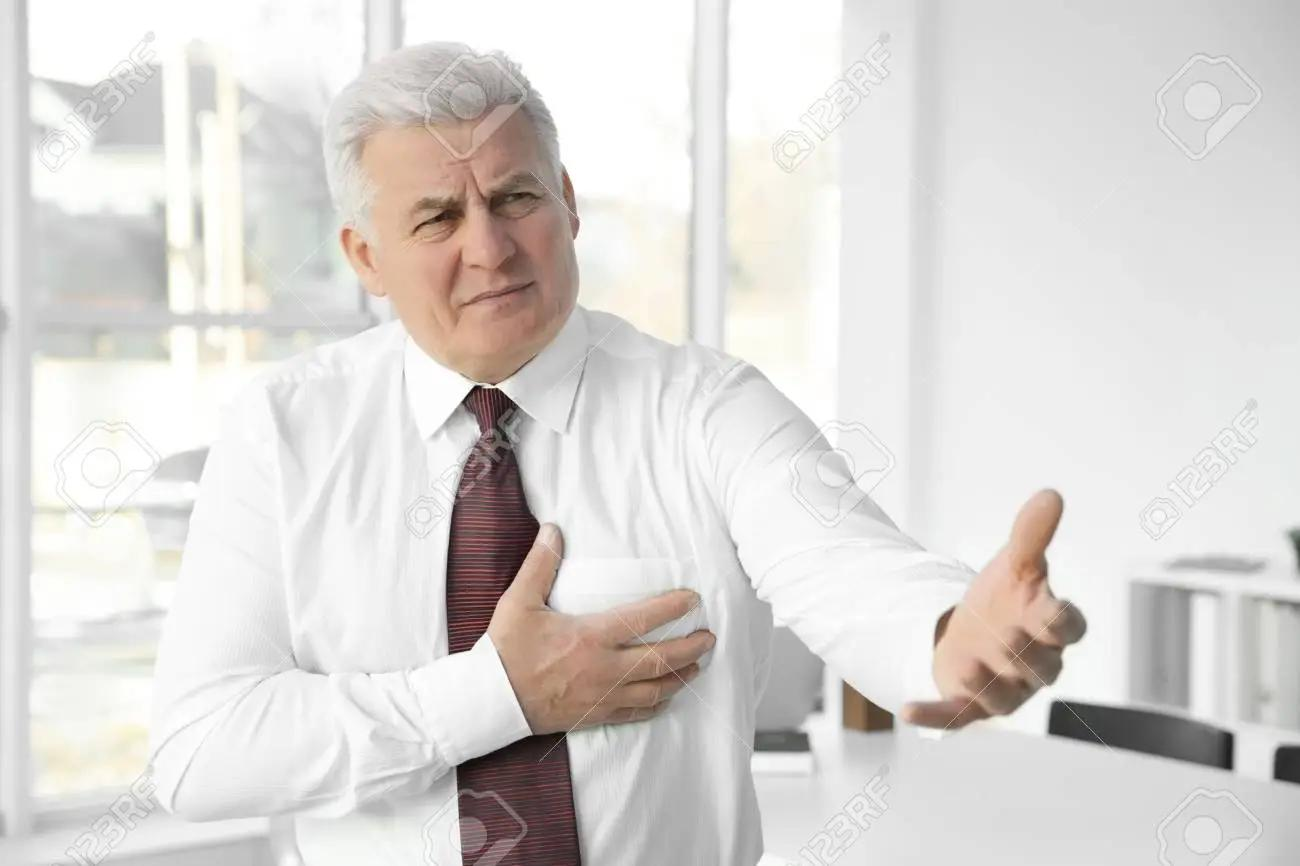pain: (403, 161, 550, 243)
